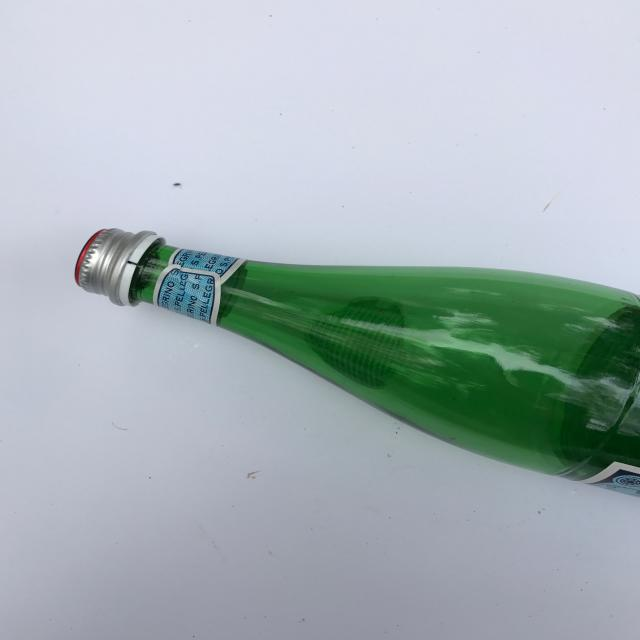glass: (74, 226, 640, 499)
